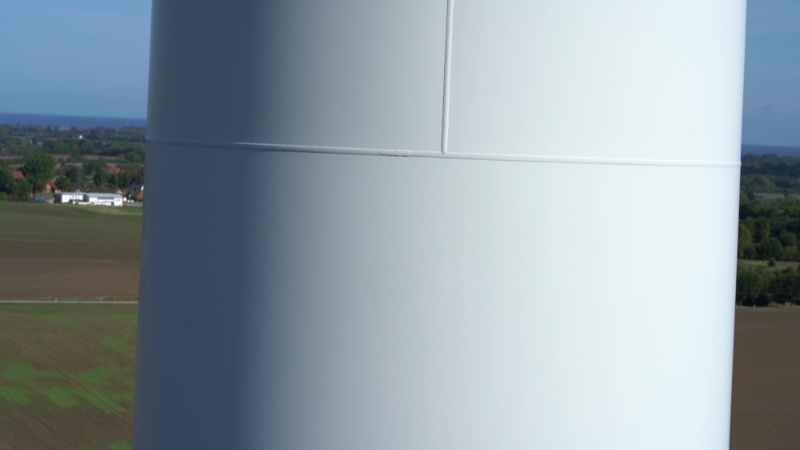weldseam: (142, 129, 745, 175), (433, 1, 455, 164)
